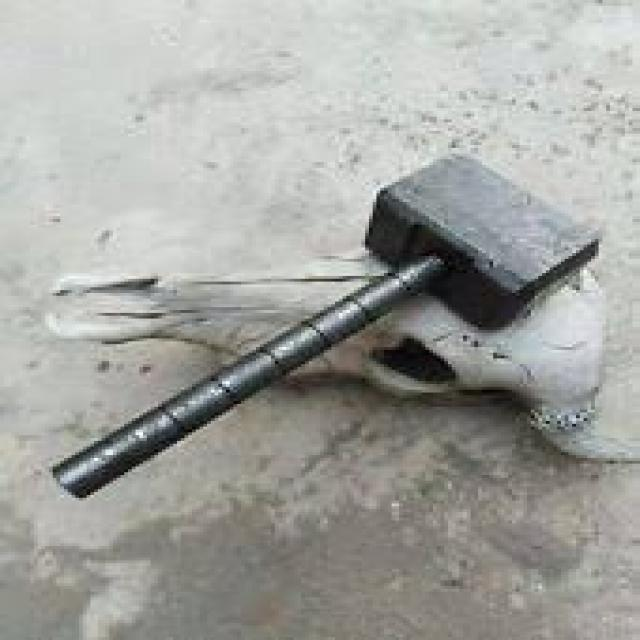hammer: (45, 148, 602, 509)
